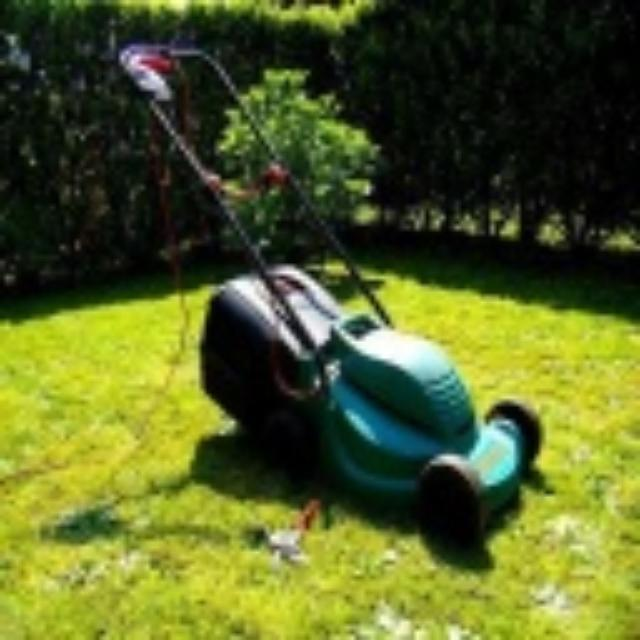Rotary-Mower: (121, 20, 594, 552)
